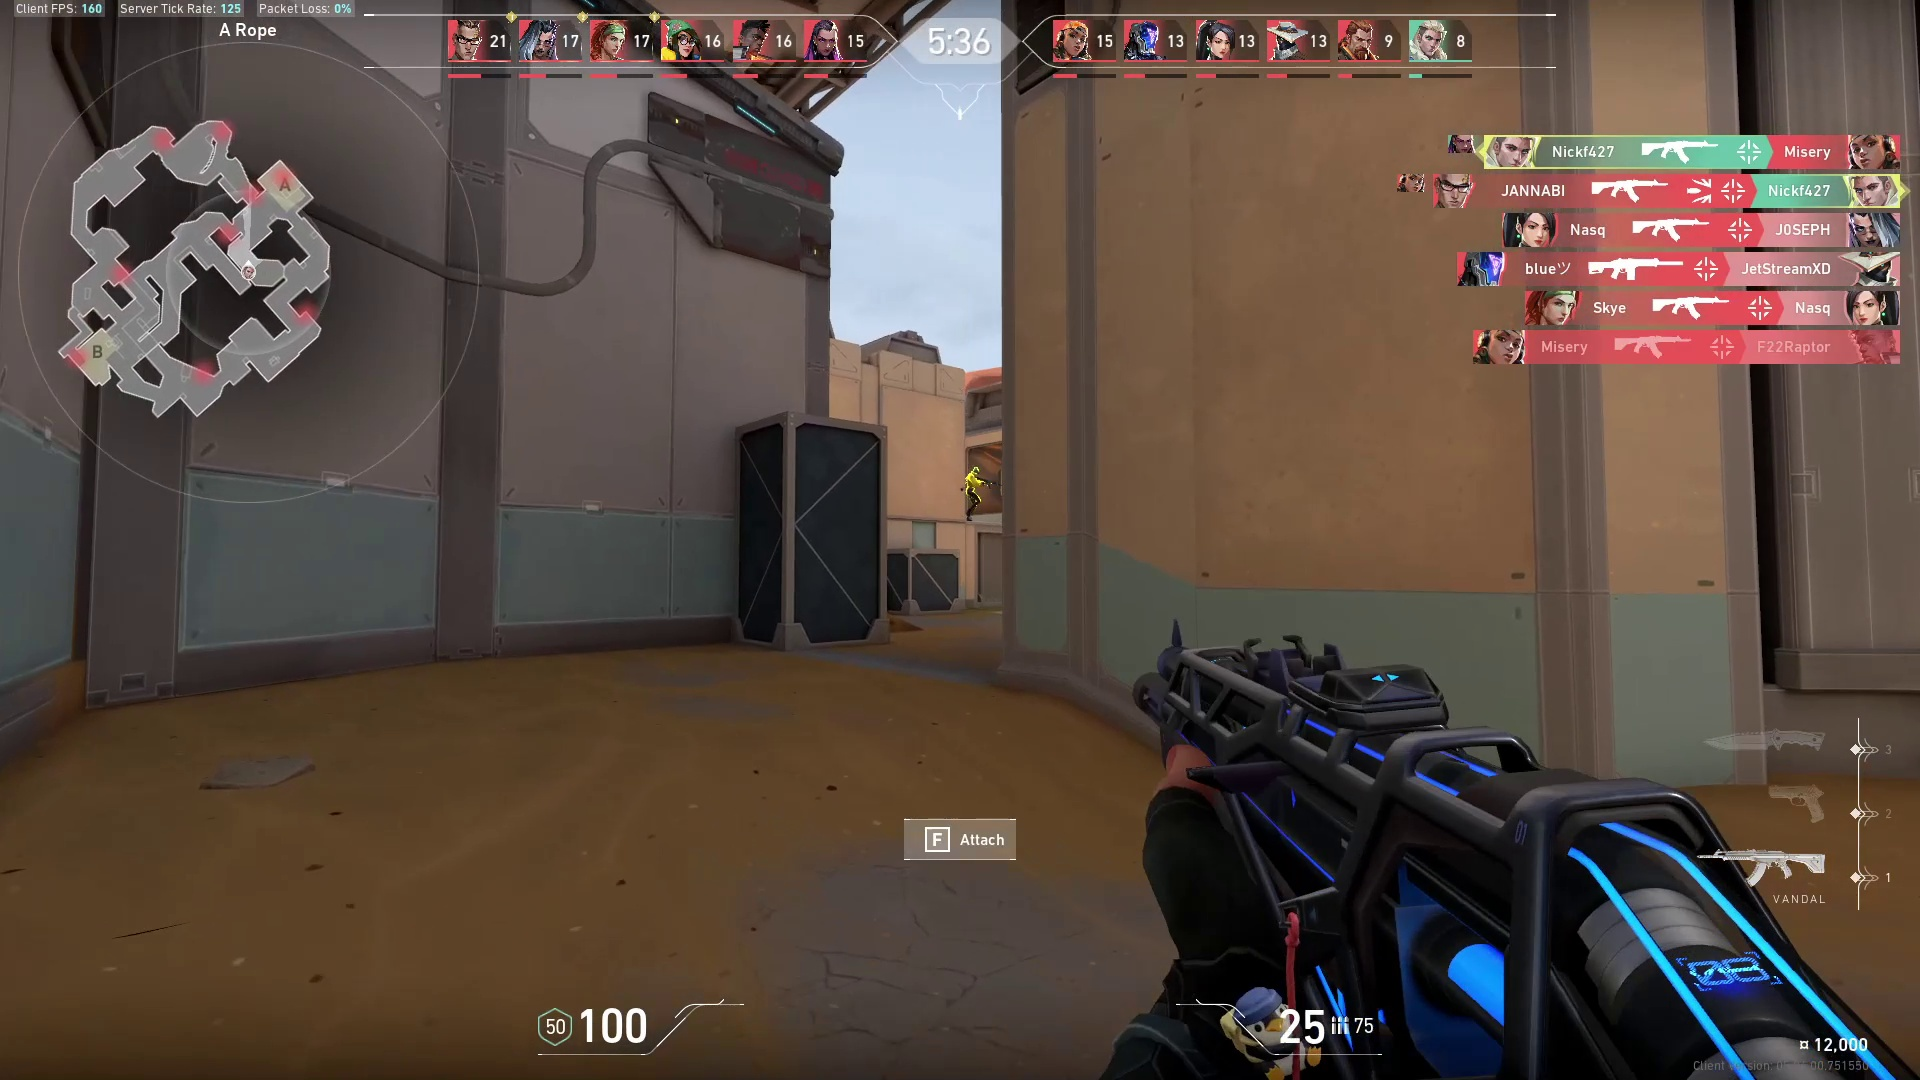enemy_body: (967, 473, 988, 524)
enemy_head: (972, 465, 981, 475)
